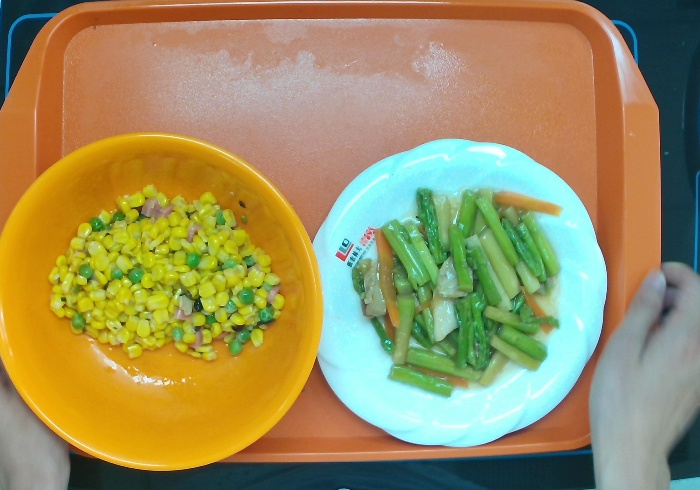ZNLD-Hua_Bian_Wan: (303, 137, 610, 449)
ZNLD-Ju_Se_Tang_Wan: (1, 130, 327, 472)
